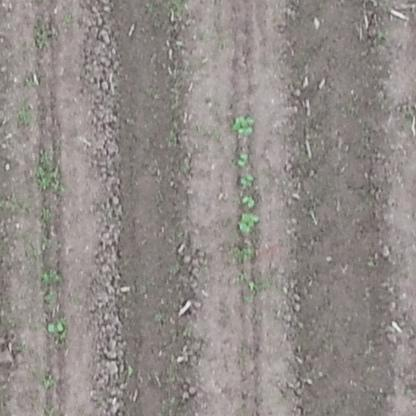vc: (231, 112, 255, 135), (237, 211, 259, 235), (241, 193, 257, 209), (47, 320, 65, 334), (237, 173, 254, 187), (236, 152, 247, 166)
